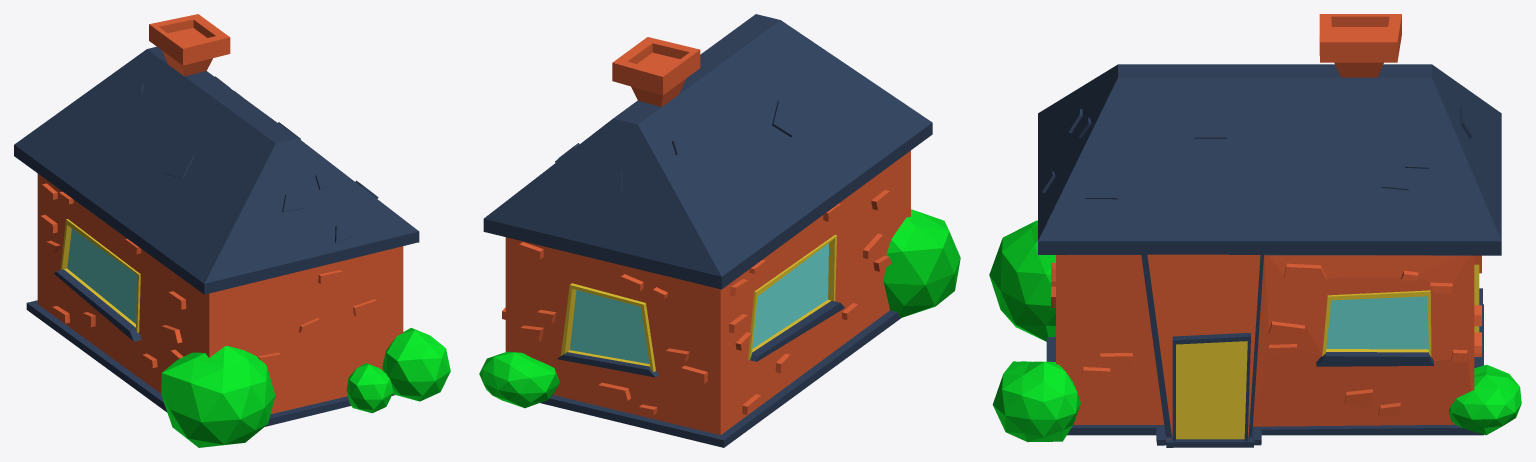
The model's file is houseG.fbx.
The picture shows the model from 3 angles, left to right: view 1: azimuth 30°, elevation 25°; view 2: azimuth 150°, elevation 25°; view 3: azimuth 270°, elevation 25°; orthographic projection. The views are drawn at different scales.
Visible parts, largest first — view 1: Cube, Icosphere; view 2: Cube, Icosphere; view 3: Cube, Icosphere.
Boxes of the visible parts, left/top/right/bottom form: Cube: left=14, top=14, right=419, bottom=426; Icosphere: left=161, top=328, right=450, bottom=447; Cube: left=483, top=14, right=932, bottom=447; Icosphere: left=479, top=209, right=960, bottom=408; Cube: left=1038, top=14, right=1501, bottom=447; Icosphere: left=989, top=220, right=1521, bottom=442.
Size of the model in its own units: 200 by 208 by 282.
